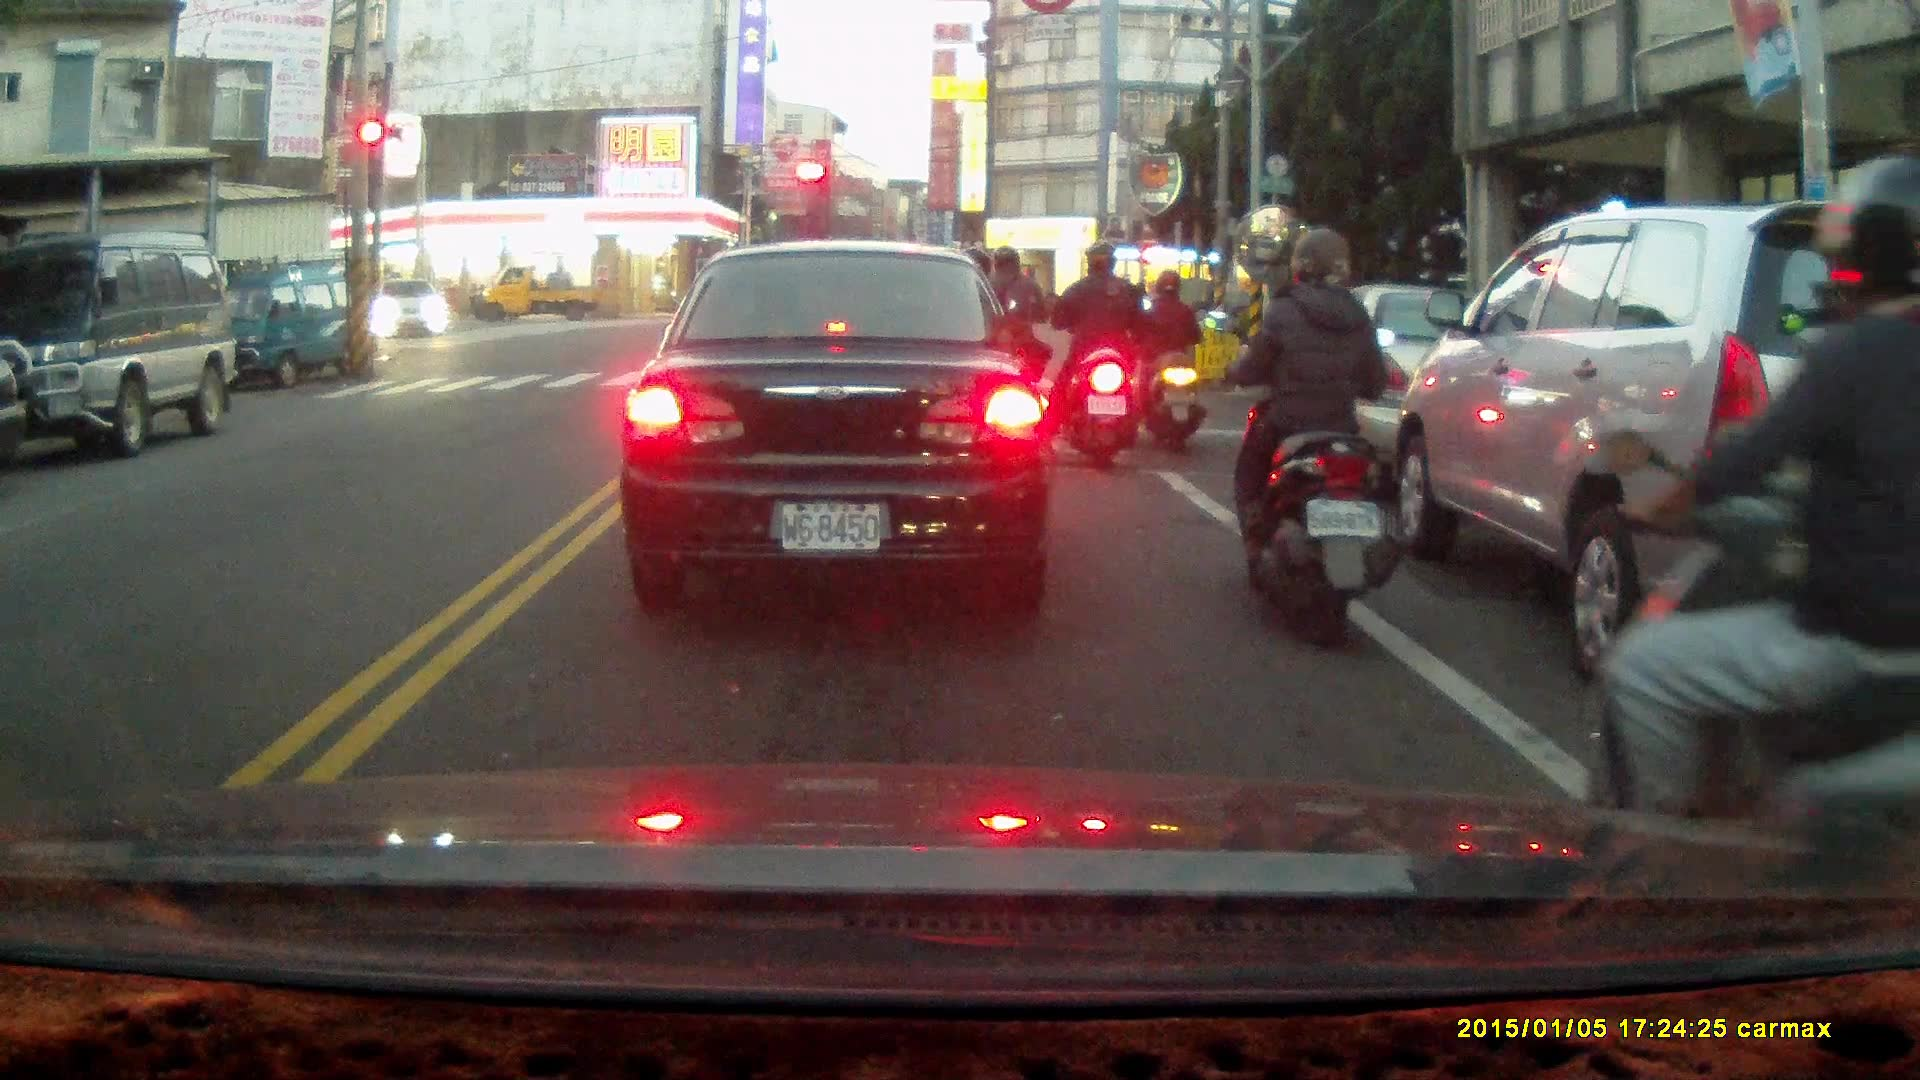rider: (1587, 152, 1920, 880), (1201, 221, 1403, 654), (1048, 243, 1141, 469), (962, 243, 1051, 445), (1134, 269, 1204, 450)
vehicle: (1380, 195, 1920, 685), (617, 243, 1061, 606), (1264, 282, 1568, 493), (1, 234, 239, 458), (194, 255, 381, 394), (472, 265, 607, 327), (372, 277, 451, 343)
